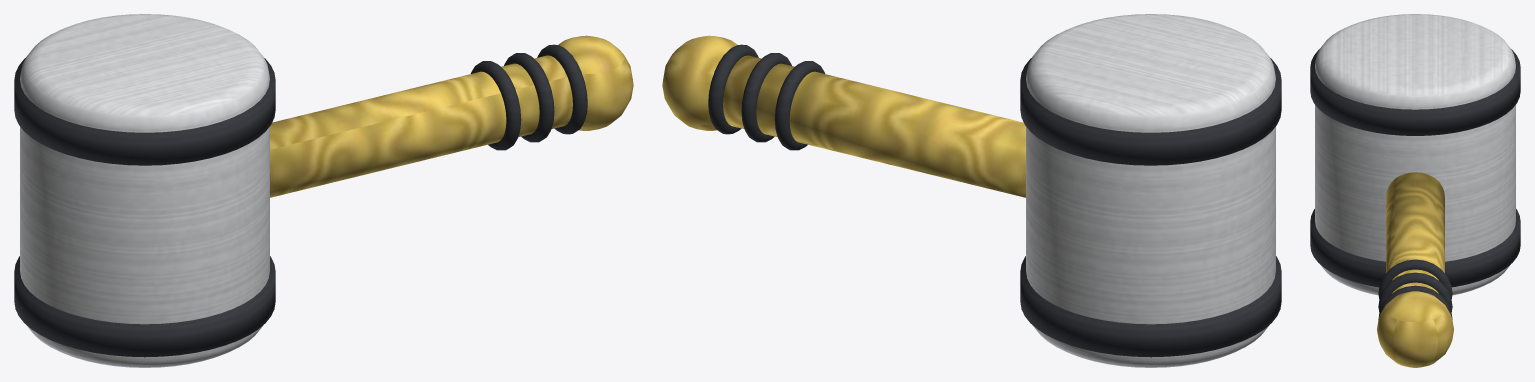
The model's file is hammer.glb.
3 views of the same model, side by side, from view 1: azimuth 30°, elevation 25°; view 2: azimuth 150°, elevation 25°; view 3: azimuth 270°, elevation 25° (orthographic). The views are drawn at different scales.
Parts seen in each view (by area): view 1: HeadBody, Handle, Band, Wrap, Knob; view 2: HeadBody, Handle, Band, Wrap, Knob; view 3: HeadBody, Band, Handle, Knob, Wrap.
Boxes of the visible parts, x1,y1,x2,y2 form: HeadBody: (20,14,269,367); Handle: (270,55,572,197); Band: (14,58,275,357); Wrap: (470,44,587,150); Knob: (558,35,633,130); HeadBody: (1026,14,1275,367); Handle: (723,55,1025,197); Band: (1020,58,1281,357); Wrap: (708,44,825,150); Knob: (662,35,737,130); HeadBody: (1315,14,1515,295); Band: (1310,49,1520,287); Handle: (1386,172,1444,293); Knob: (1377,291,1453,367); Wrap: (1378,259,1452,319).
Bounding box in the file's own units: 0.716 × 0.3 × 0.272.
3 materials, 3 textured.
